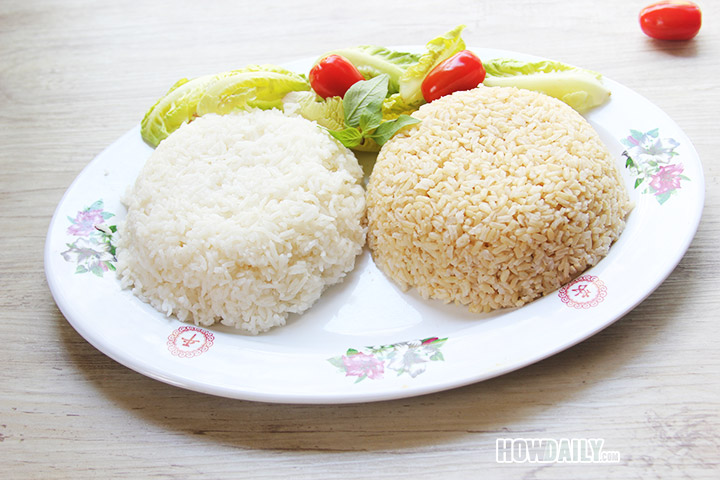rice: (111, 115, 371, 348)
